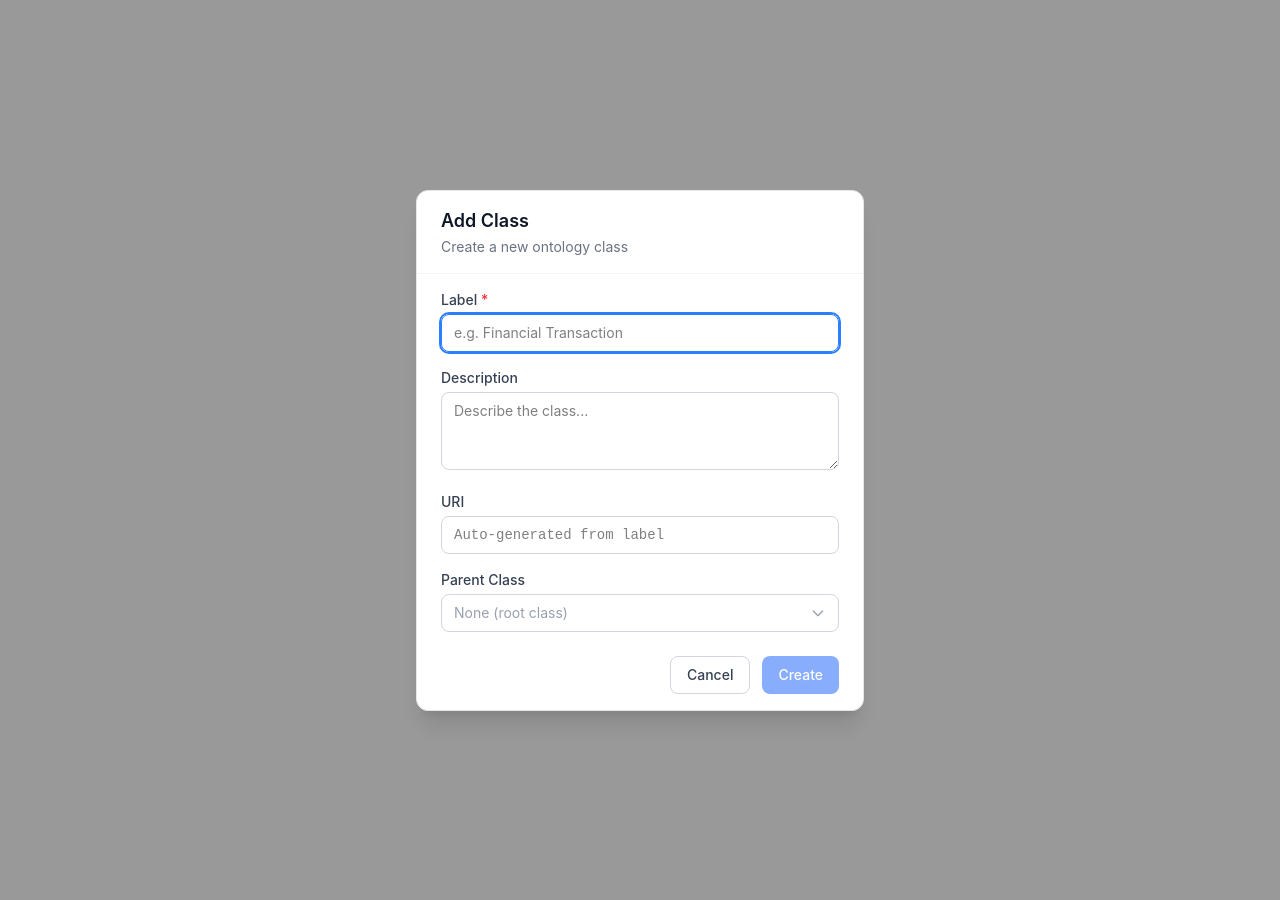
Scenario: AddClassDialog › filters parent classes by search term
Click the button with test id "parent-class-trigger" at [511, 612], box x1=441 y1=594 x2=839 y2=632
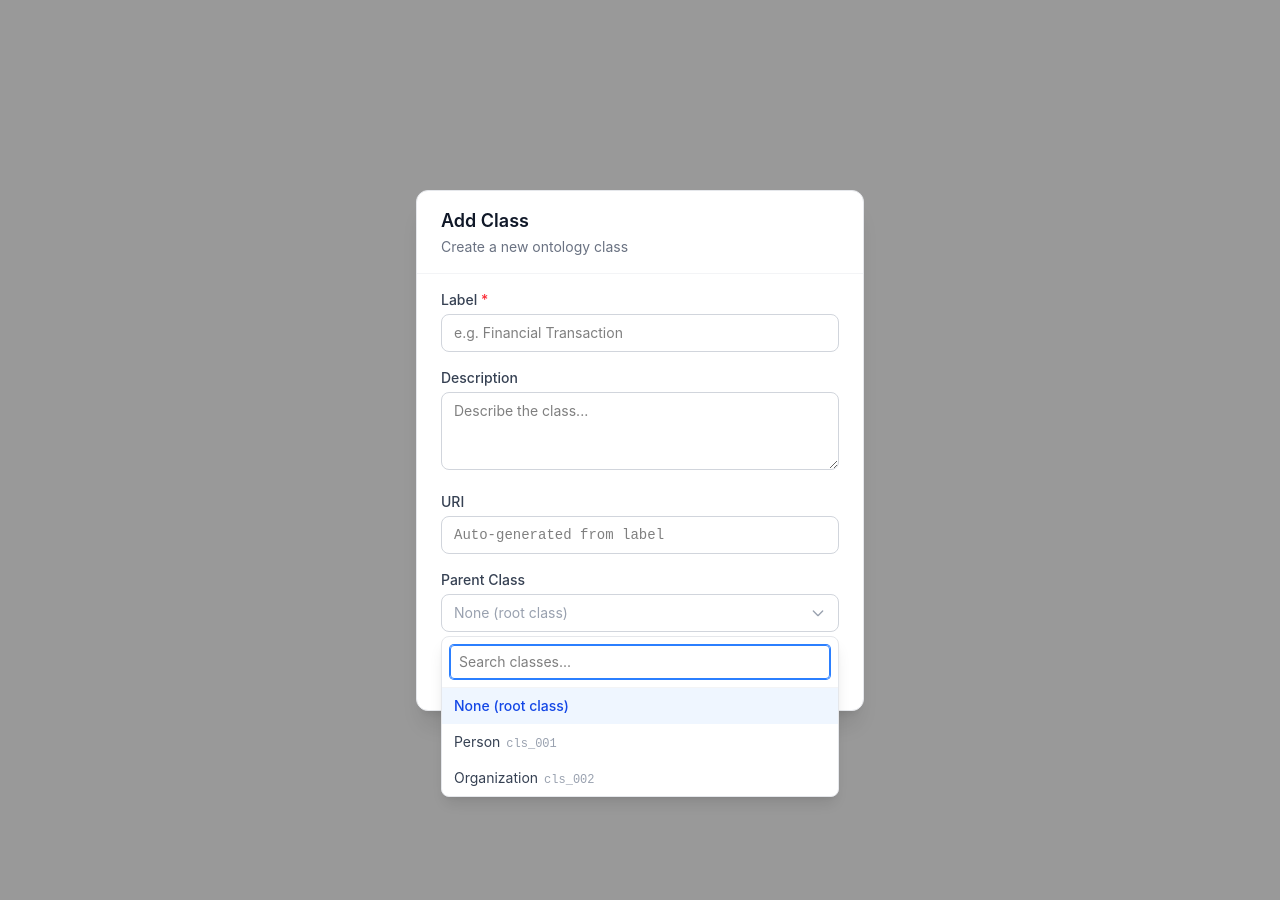
Type "org" into the field with test id "parent-class-search" at [640, 662], box x1=450 y1=644 x2=830 y2=678
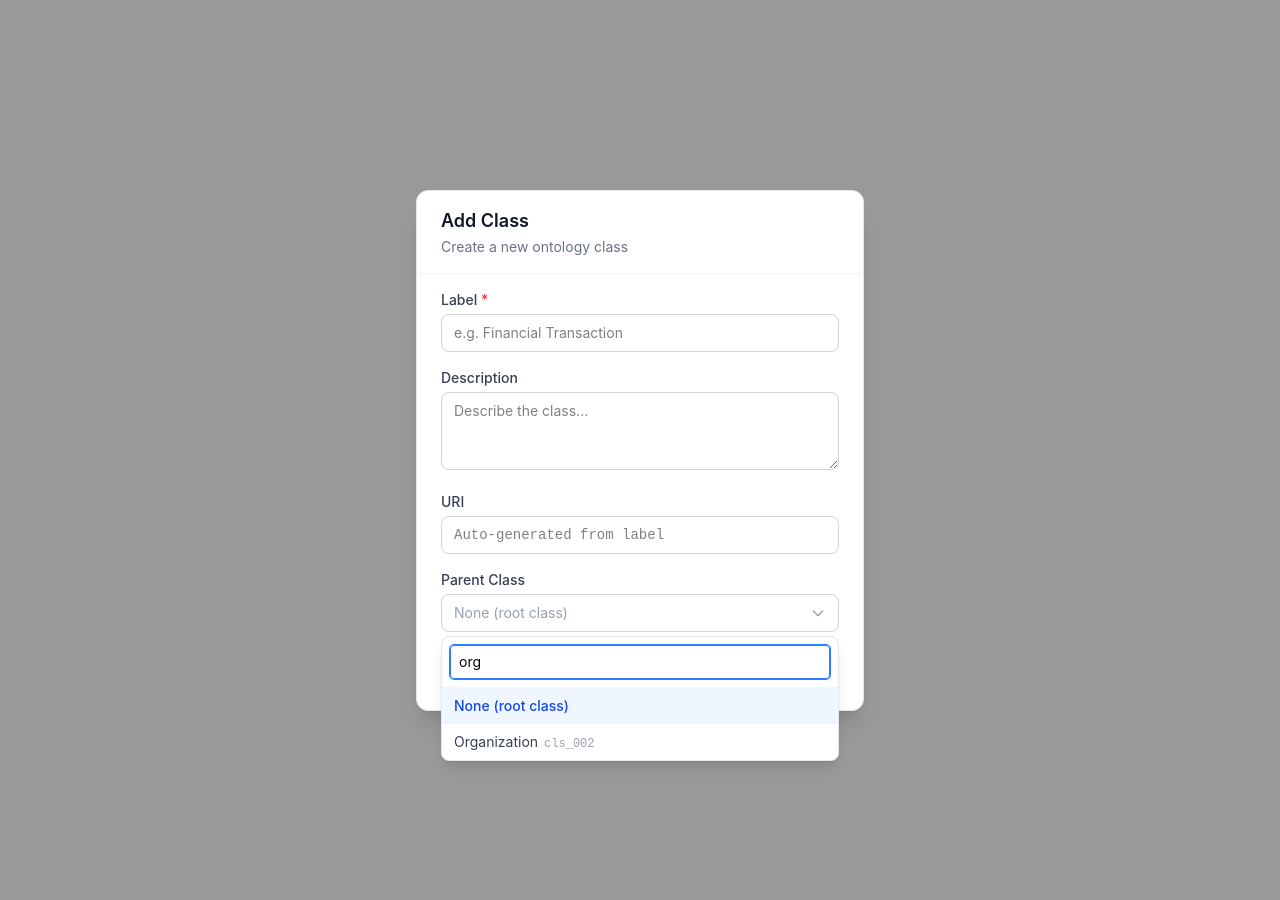
Expected: the button "Organization" is shown, x1=442 y1=724 x2=838 y2=760
Expected: the button "Person" is gone
